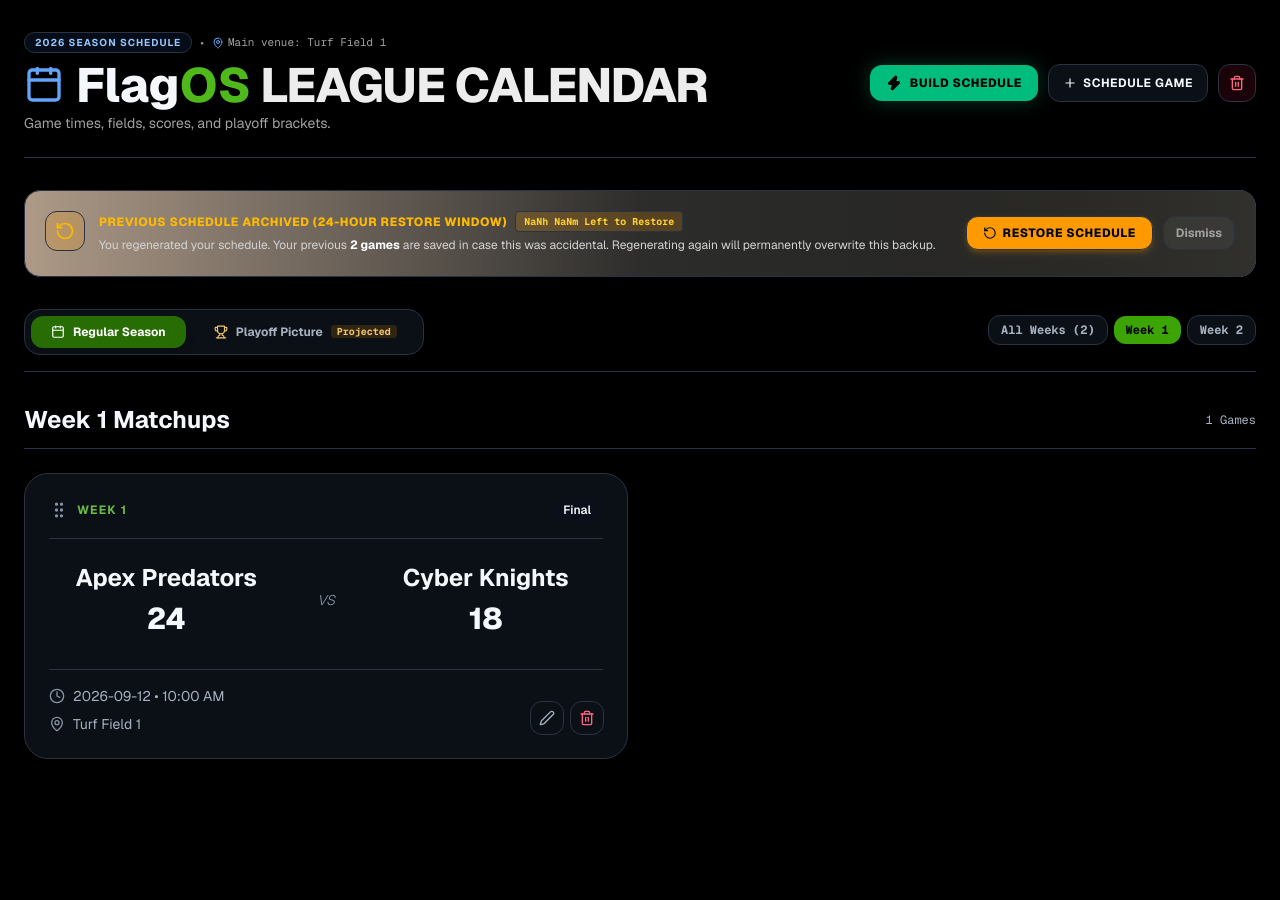
Test: Schedule Operations & Playoff Generator Suite (SchedulePage) › refuses to restore an untagged backup into a real league
What coordinates should you click on to do the following:
click the button "Restore Schedule"
I would click on:
 (1059, 233)
Its box is [966, 216, 1153, 250].
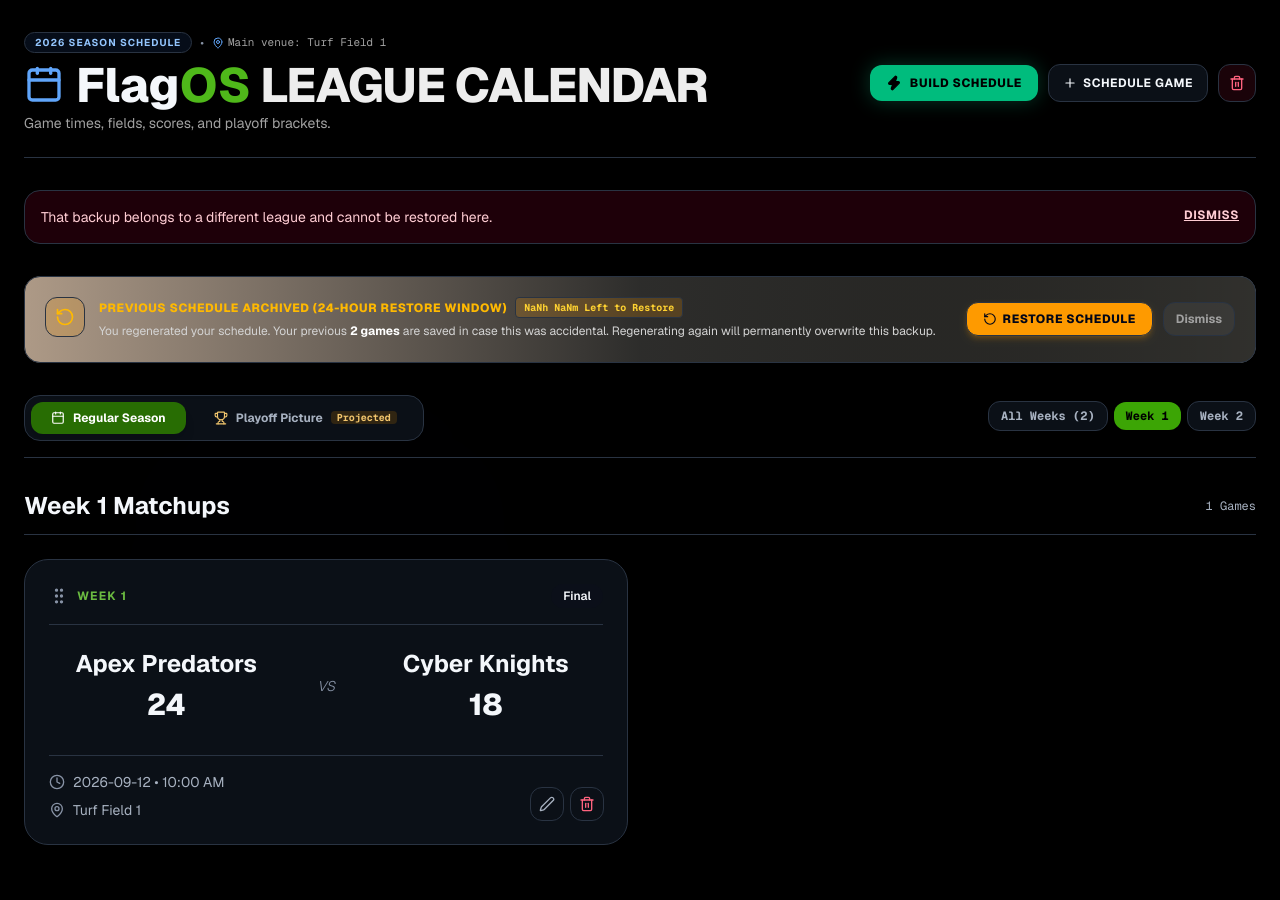
Check: the message shows "That backup belongs to a different league and cannot be restored here.", box [41, 208, 492, 226]
